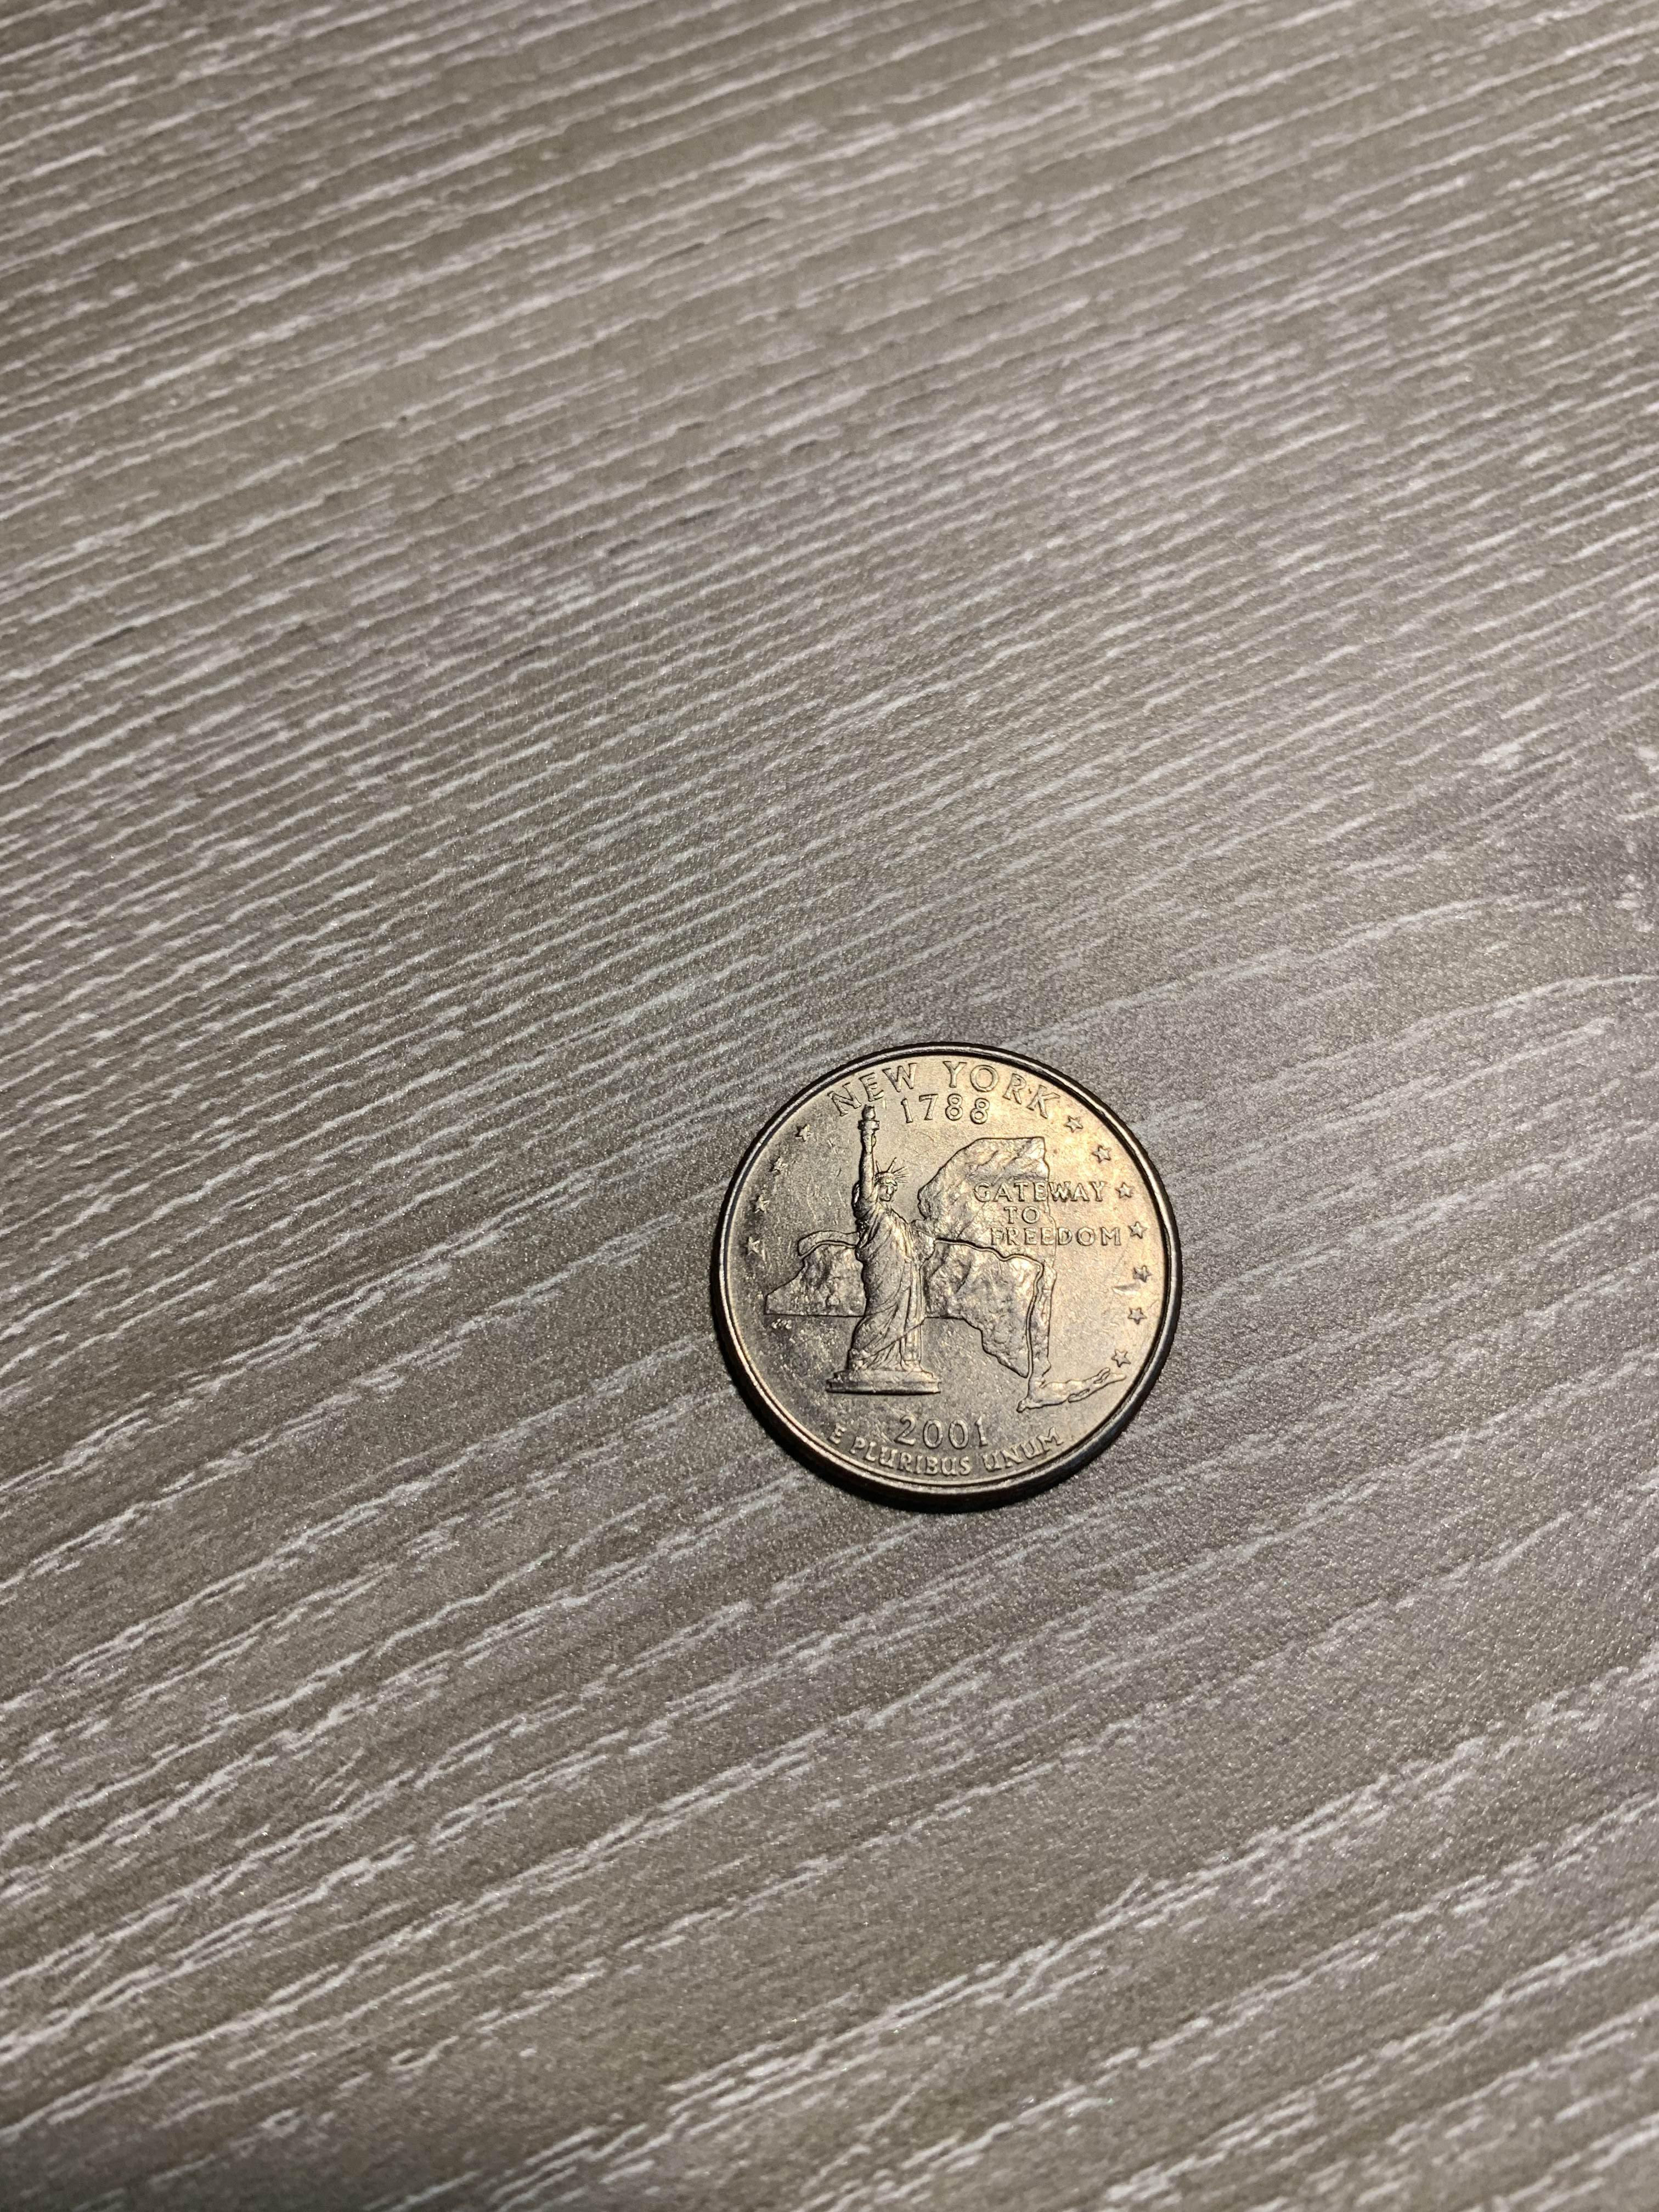Quarter: (673, 1026, 1218, 1527)
